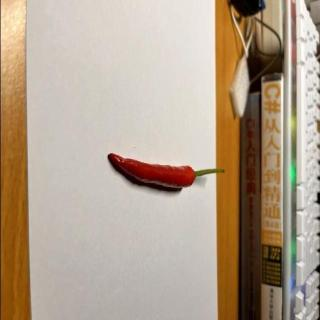Cabai Merah: (108, 153, 226, 189)
